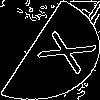X: (24, 25, 97, 75)
